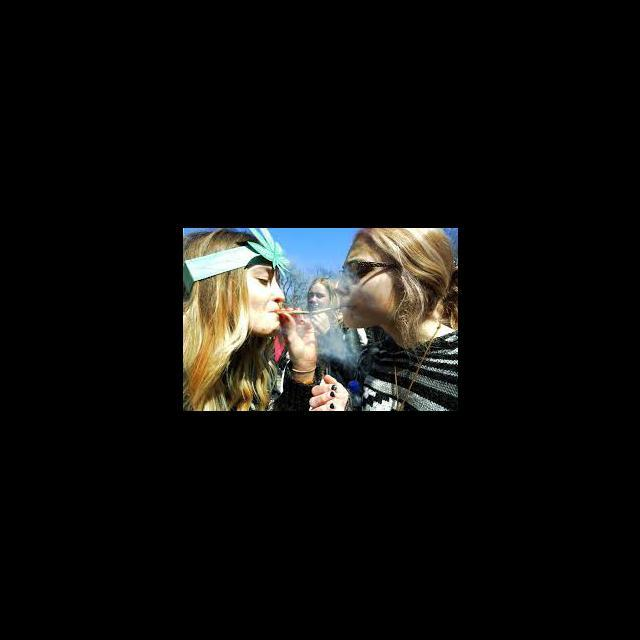Smoke: (319, 328, 352, 360)
